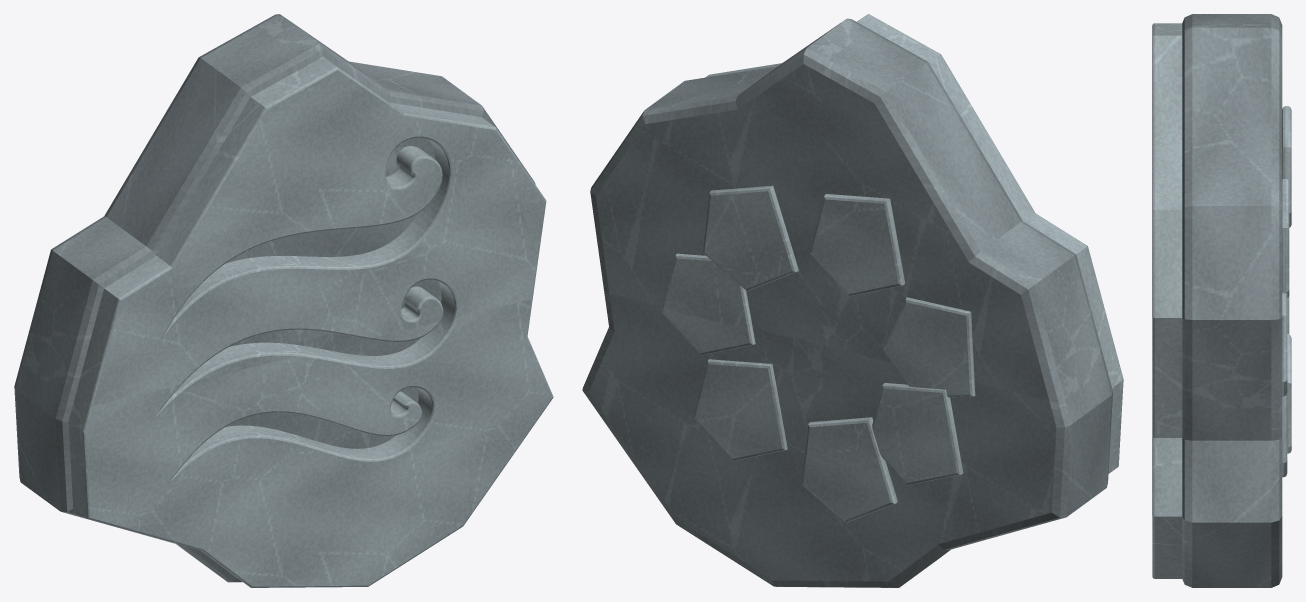
File: air_essence.glb
The picture shows the model from 3 angles, left to right: view 1: azimuth 30°, elevation 25°; view 2: azimuth 150°, elevation 25°; view 3: azimuth 270°, elevation 25°; orthographic projection.
Parts seen in each view (by area): view 1: air_essence fractured mineral, air_essence weathered fracture edges; view 2: air_essence weathered fracture edges, air_essence fractured mineral; view 3: air_essence weathered fracture edges, air_essence fractured mineral.
Boxes of the visible parts, bbox=[...] form: air_essence fractured mineral: bbox=[68, 57, 553, 587]; air_essence weathered fracture edges: bbox=[14, 14, 535, 582]; air_essence weathered fracture edges: bbox=[582, 18, 1112, 587]; air_essence fractured mineral: bbox=[661, 14, 1123, 522]; air_essence weathered fracture edges: bbox=[1182, 14, 1282, 587]; air_essence fractured mineral: bbox=[1152, 23, 1291, 578].
Size of the model in its own units: 0.1759 by 0.1878 by 0.0441.
Materials: 3 (3 with a texture image).
